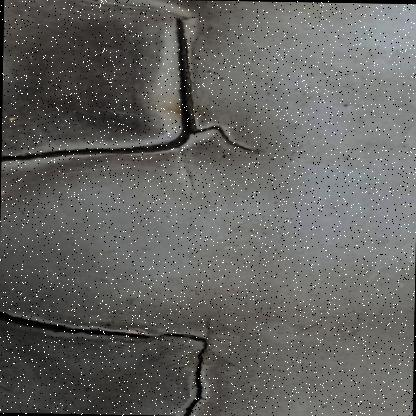Crack: (0, 0, 279, 207), (0, 286, 256, 415)
